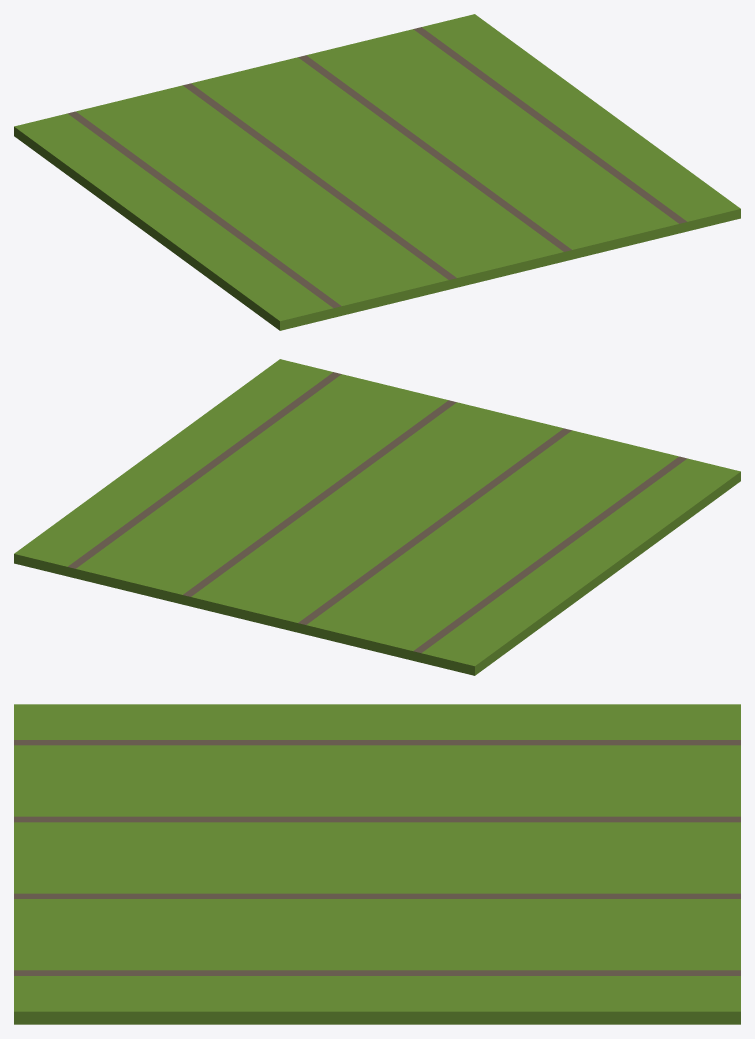
File: far.fbx
The picture shows the model from 3 angles, top to bottom: view 1: azimuth 30°, elevation 25°; view 2: azimuth 150°, elevation 25°; view 3: azimuth 270°, elevation 25°; orthographic projection. The views are drawn at different scales.
Parts seen in each view (by area): view 1: a1000/300/far; view 2: a1000/300/far; view 3: a1000/300/far.
Boxes of the visible parts, left/top/right/bottom form: a1000/300/far: left=14, top=14, right=740, bottom=330; a1000/300/far: left=14, top=359, right=740, bottom=675; a1000/300/far: left=14, top=704, right=740, bottom=1024.
Size of the model in its own units: 50 by 1 by 50.
